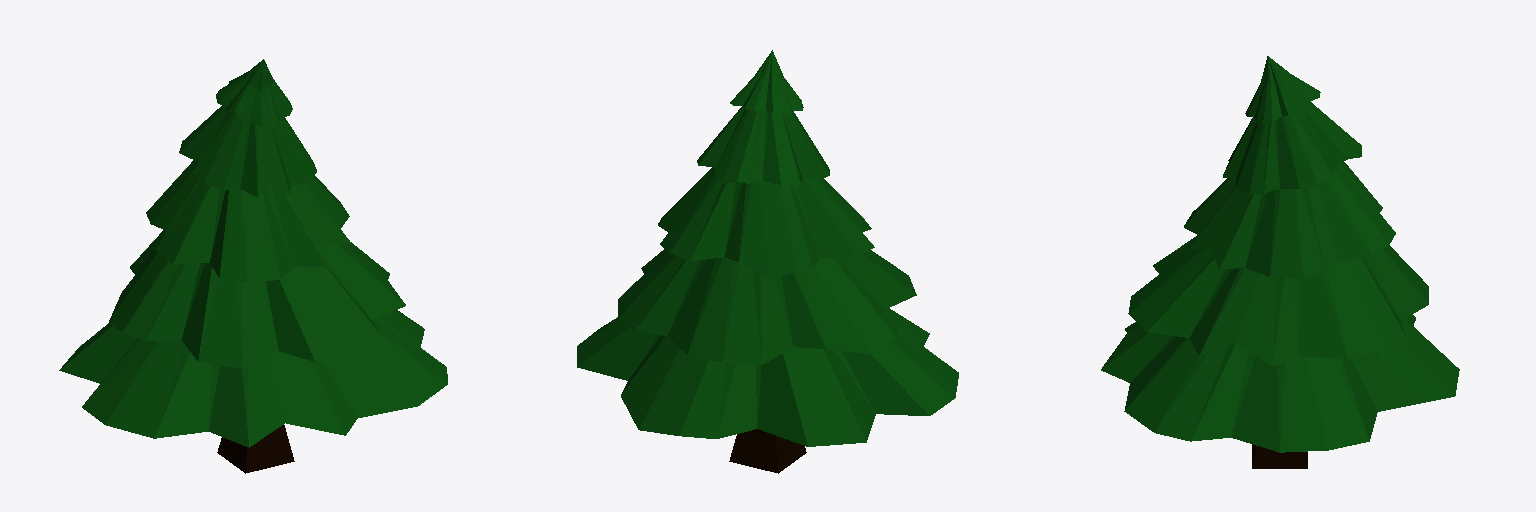
Rendered from arbore2.obj.
3 views of the same model, side by side, from view 1: azimuth 30°, elevation 25°; view 2: azimuth 150°, elevation 25°; view 3: azimuth 270°, elevation 25° (orthographic).
Visible parts, largest first — view 1: Círculo, Círculo.001, Círculo.002, Círculo.003, Círculo.004, Cubo; view 2: Círculo, Círculo.001, Círculo.002, Círculo.003, Círculo.004, Cubo; view 3: Círculo, Círculo.001, Círculo.002, Círculo.003, Círculo.004, Cubo.
Boxes of the visible parts, x1=… form: Círculo: x1=59, y1=310, x2=447, y2=447; Círculo.001: x1=108, y1=230, x2=405, y2=368; Círculo.002: x1=146, y1=160, x2=351, y2=281; Círculo.003: x1=179, y1=106, x2=316, y2=197; Círculo.004: x1=216, y1=59, x2=292, y2=126; Cubo: x1=217, y1=425, x2=294, y2=473; Círculo: x1=577, y1=308, x2=958, y2=446; Círculo.001: x1=618, y1=249, x2=916, y2=364; Círculo.002: x1=658, y1=167, x2=874, y2=277; Círculo.003: x1=697, y1=106, x2=829, y2=185; Círculo.004: x1=730, y1=50, x2=803, y2=113; Cubo: x1=729, y1=429, x2=806, y2=473; Círculo: x1=1101, y1=315, x2=1459, y2=452; Círculo.001: x1=1128, y1=235, x2=1428, y2=365; Círculo.002: x1=1184, y1=161, x2=1395, y2=277; Círculo.003: x1=1223, y1=102, x2=1361, y2=193; Círculo.004: x1=1245, y1=56, x2=1320, y2=123; Cubo: x1=1252, y1=444, x2=1307, y2=468.
Size of the model in its own units: 2.91 by 3.31 by 2.68.